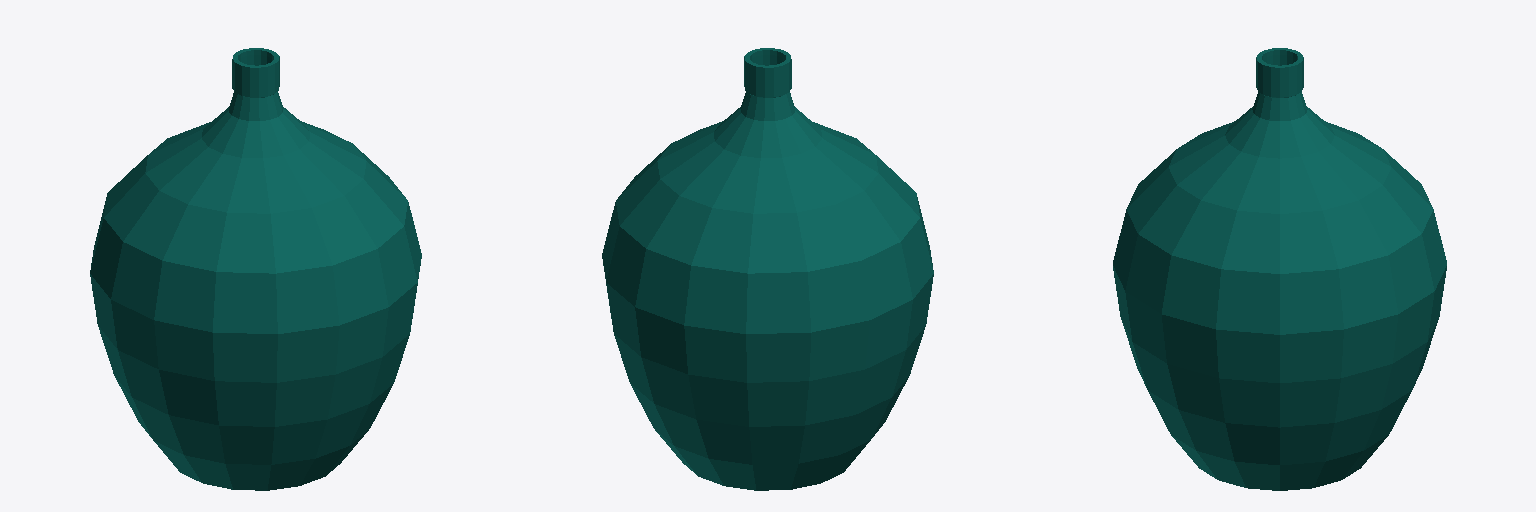
The model's file is glass_bottle.obj.
3 views of the same model, side by side, from view 1: azimuth 30°, elevation 25°; view 2: azimuth 150°, elevation 25°; view 3: azimuth 270°, elevation 25° (orthographic).
Parts seen in each view (by area): view 1: glass_bottle; view 2: glass_bottle; view 3: glass_bottle.
Part boxes in pixels (x1,y1,x2,y2): glass_bottle: (90, 48, 421, 490); glass_bottle: (602, 48, 933, 490); glass_bottle: (1113, 48, 1446, 490).
Bounding box in the file's own units: 36.41 × 47.52 × 36.41.